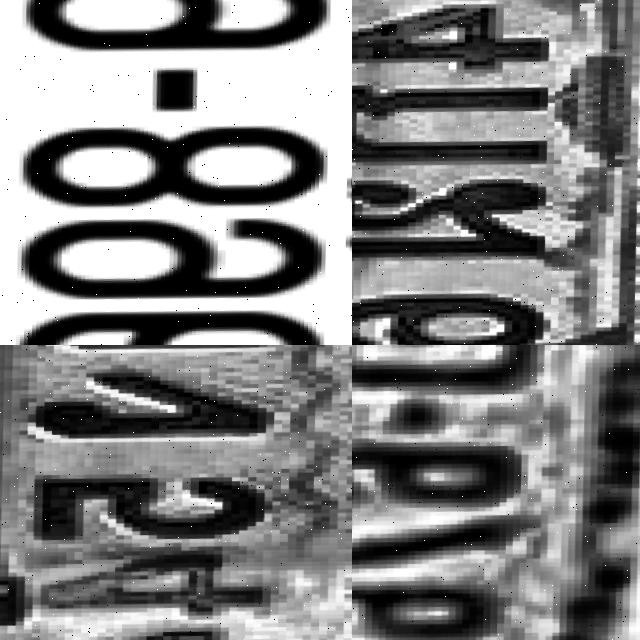license-plate: (0, 0, 352, 345), (0, 345, 352, 640), (352, 0, 640, 345), (352, 345, 640, 640)
